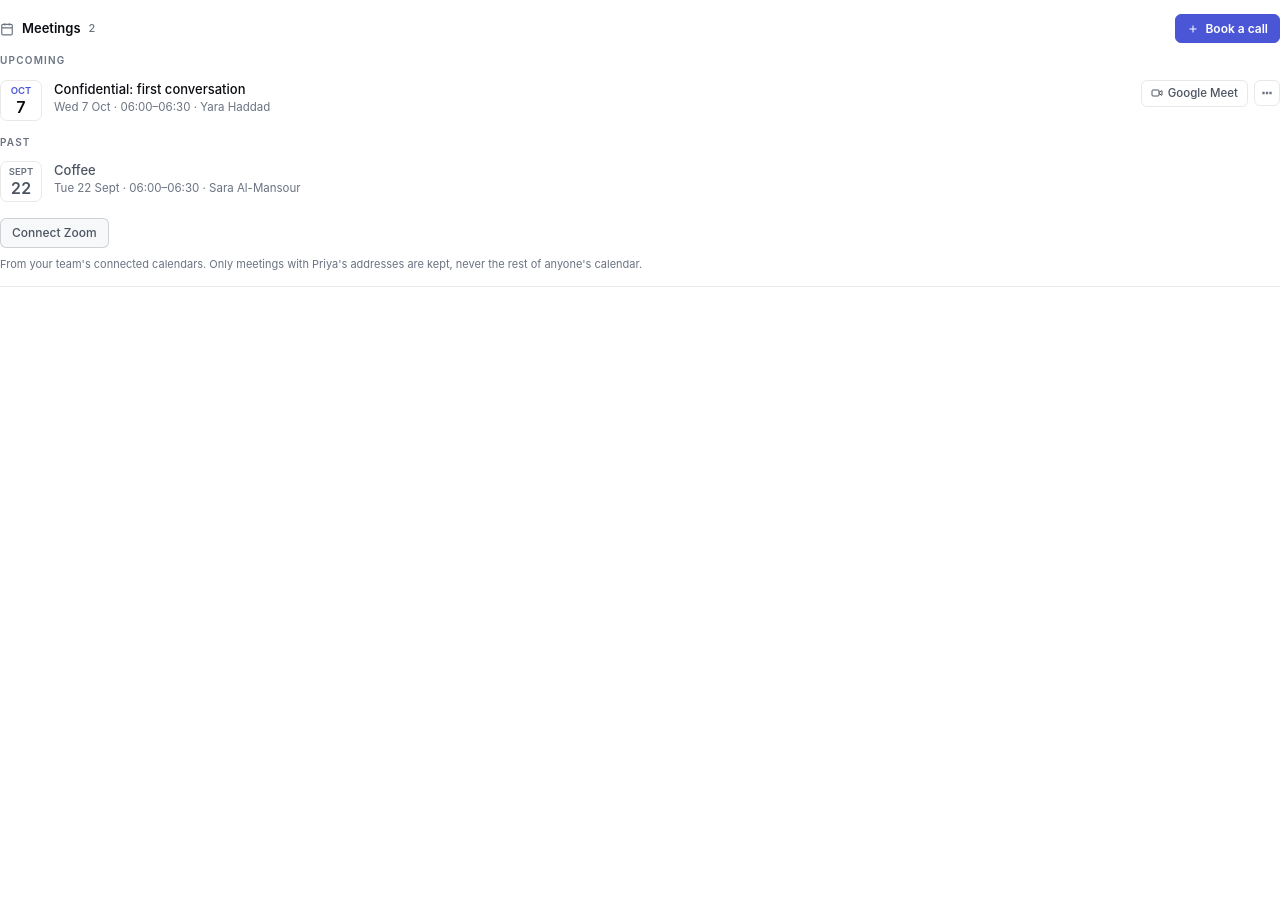
Scenario: MeetingsSection › pages the week ahead, never before today
Step 1. Click the button "Book a call" → (1228, 29), box [1175,14,1279,43]
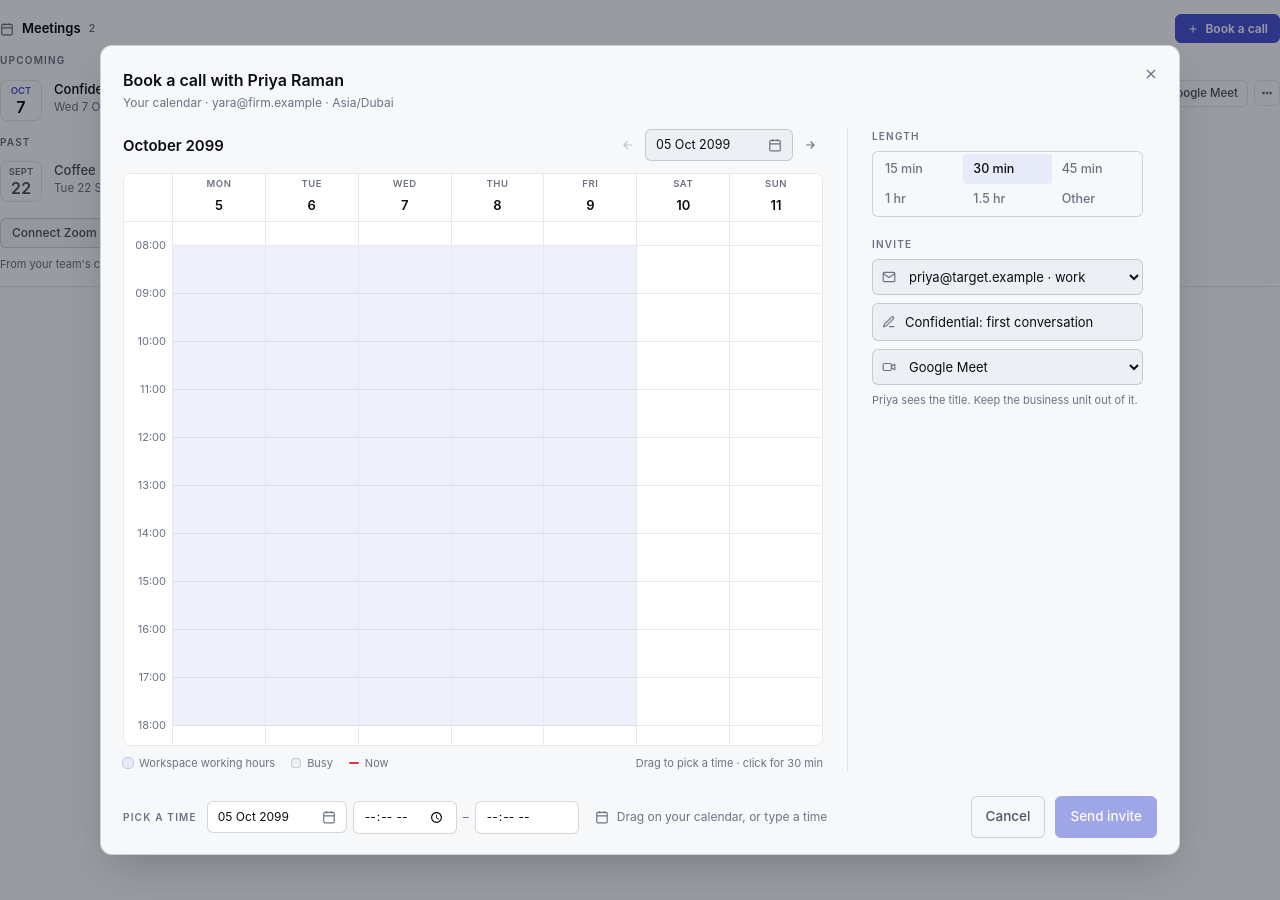
Expected: the button named "Earlier days" is disabled, [615,132,641,158]
Step 2. Click the button named "Later days" → (810, 145), box [797,132,823,158]
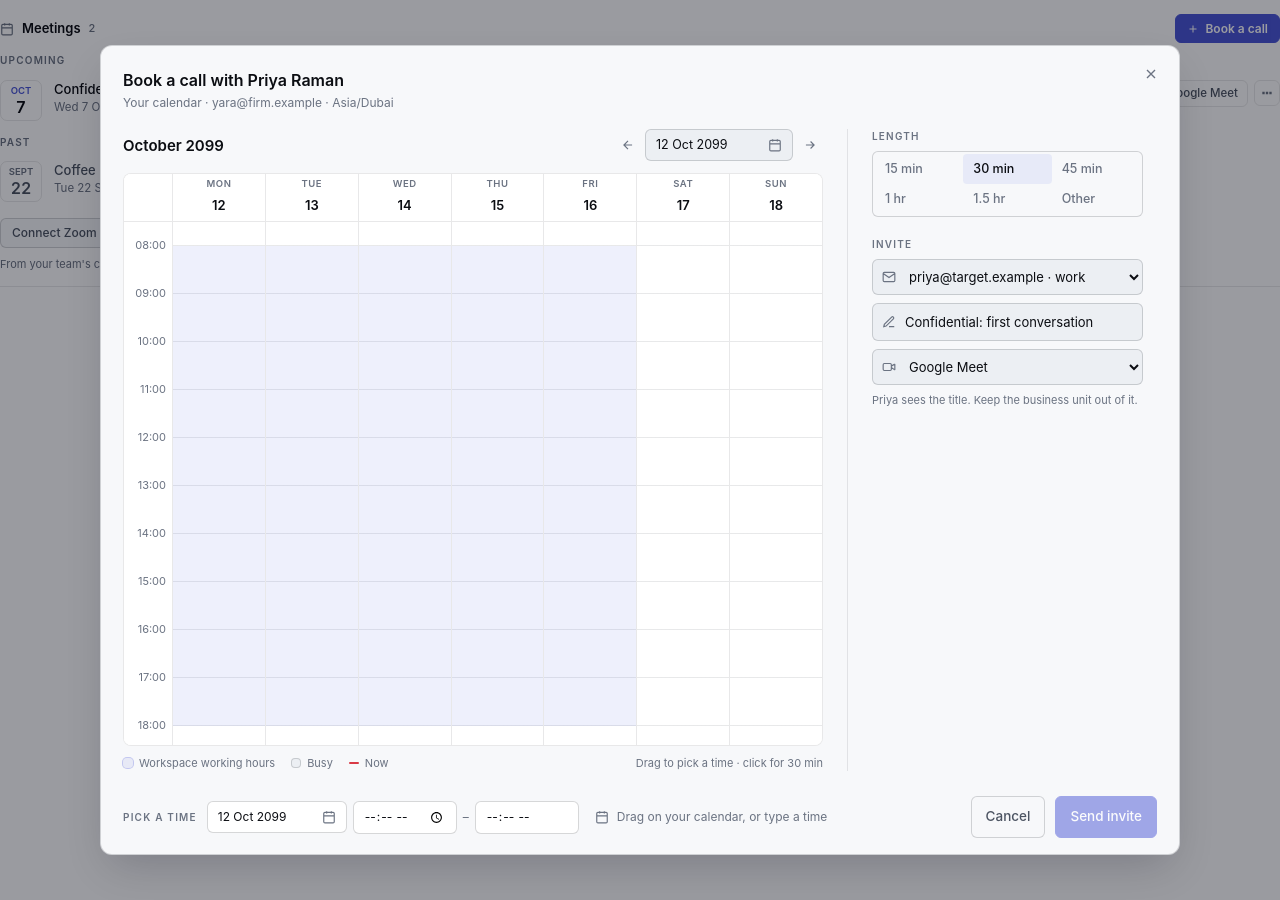
Expected: the button named "Earlier days" is enabled, [615,132,641,158]
